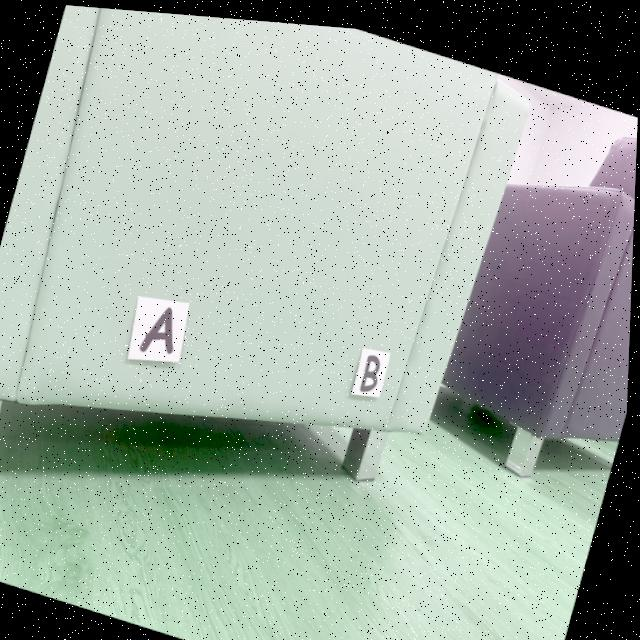A: (141, 304, 175, 351)
B: (361, 347, 383, 387)
